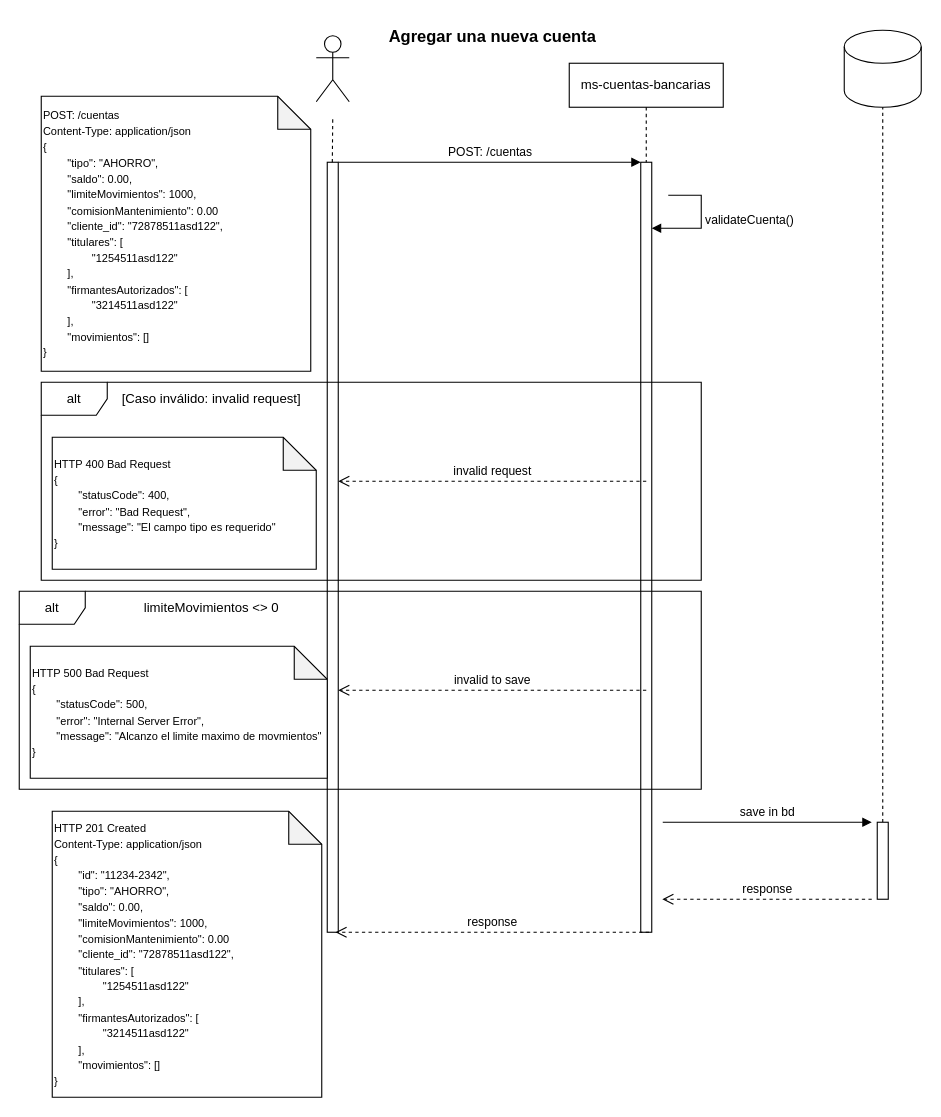
The diagram is 941 pixels wide and 1117 high, and some of its shapes have lost their labels. The centre of each missing label's shape, as x and y in pixels:
Cliente: [332,68]
MongoDb: [882,68]
